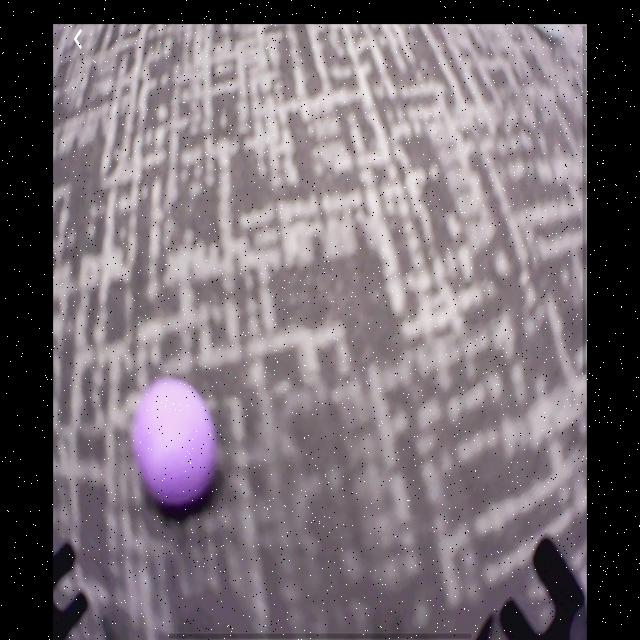ball: (134, 379, 218, 506)
